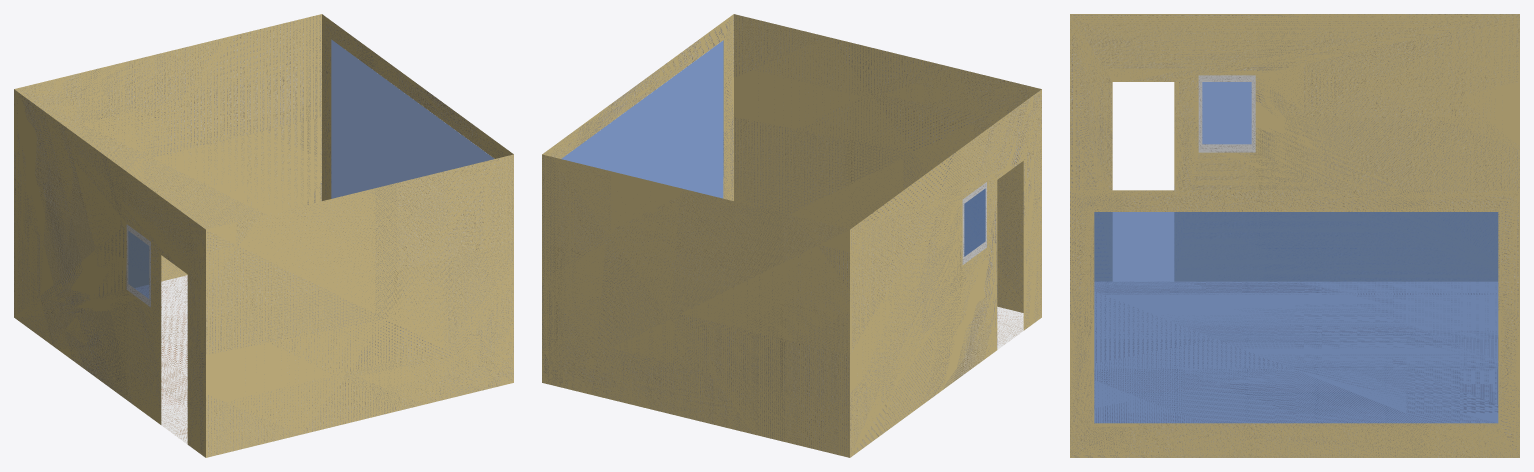
Rendered from COM010.obj.
3 renders of one model, left to right at view 1: azimuth 30°, elevation 25°; view 2: azimuth 150°, elevation 25°; view 3: azimuth 270°, elevation 25°, orthographic. The views are drawn at different scales.
Parts seen in each view (by area): view 1: Mesh1 COM010 Model, Mesh2 COM010 Model; view 2: Mesh1 COM010 Model, Mesh2 COM010 Model; view 3: Mesh1 COM010 Model, Mesh2 COM010 Model.
Part boxes in pixels (box(x1,y1,x2,y2)): Mesh1 COM010 Model: box(14, 14, 513, 457); Mesh2 COM010 Model: box(331, 39, 494, 198); Mesh1 COM010 Model: box(542, 14, 1041, 457); Mesh2 COM010 Model: box(561, 40, 723, 198); Mesh1 COM010 Model: box(1070, 14, 1519, 457); Mesh2 COM010 Model: box(1094, 212, 1498, 423).
Bounding box in the file's own units: 4.2 × 2.98 × 4.53.
5 materials, 2 textured.
